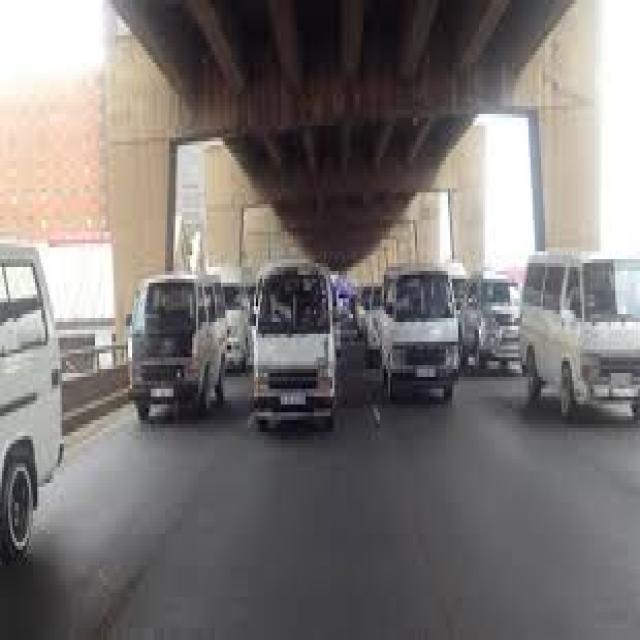MiniBus taxi: (254, 259, 336, 432), (574, 247, 640, 428), (384, 267, 465, 412), (128, 275, 206, 408)
